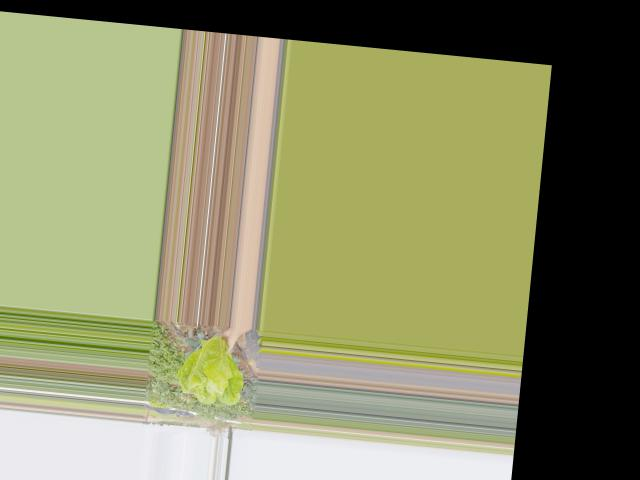lettuce: (173, 327, 251, 408)
